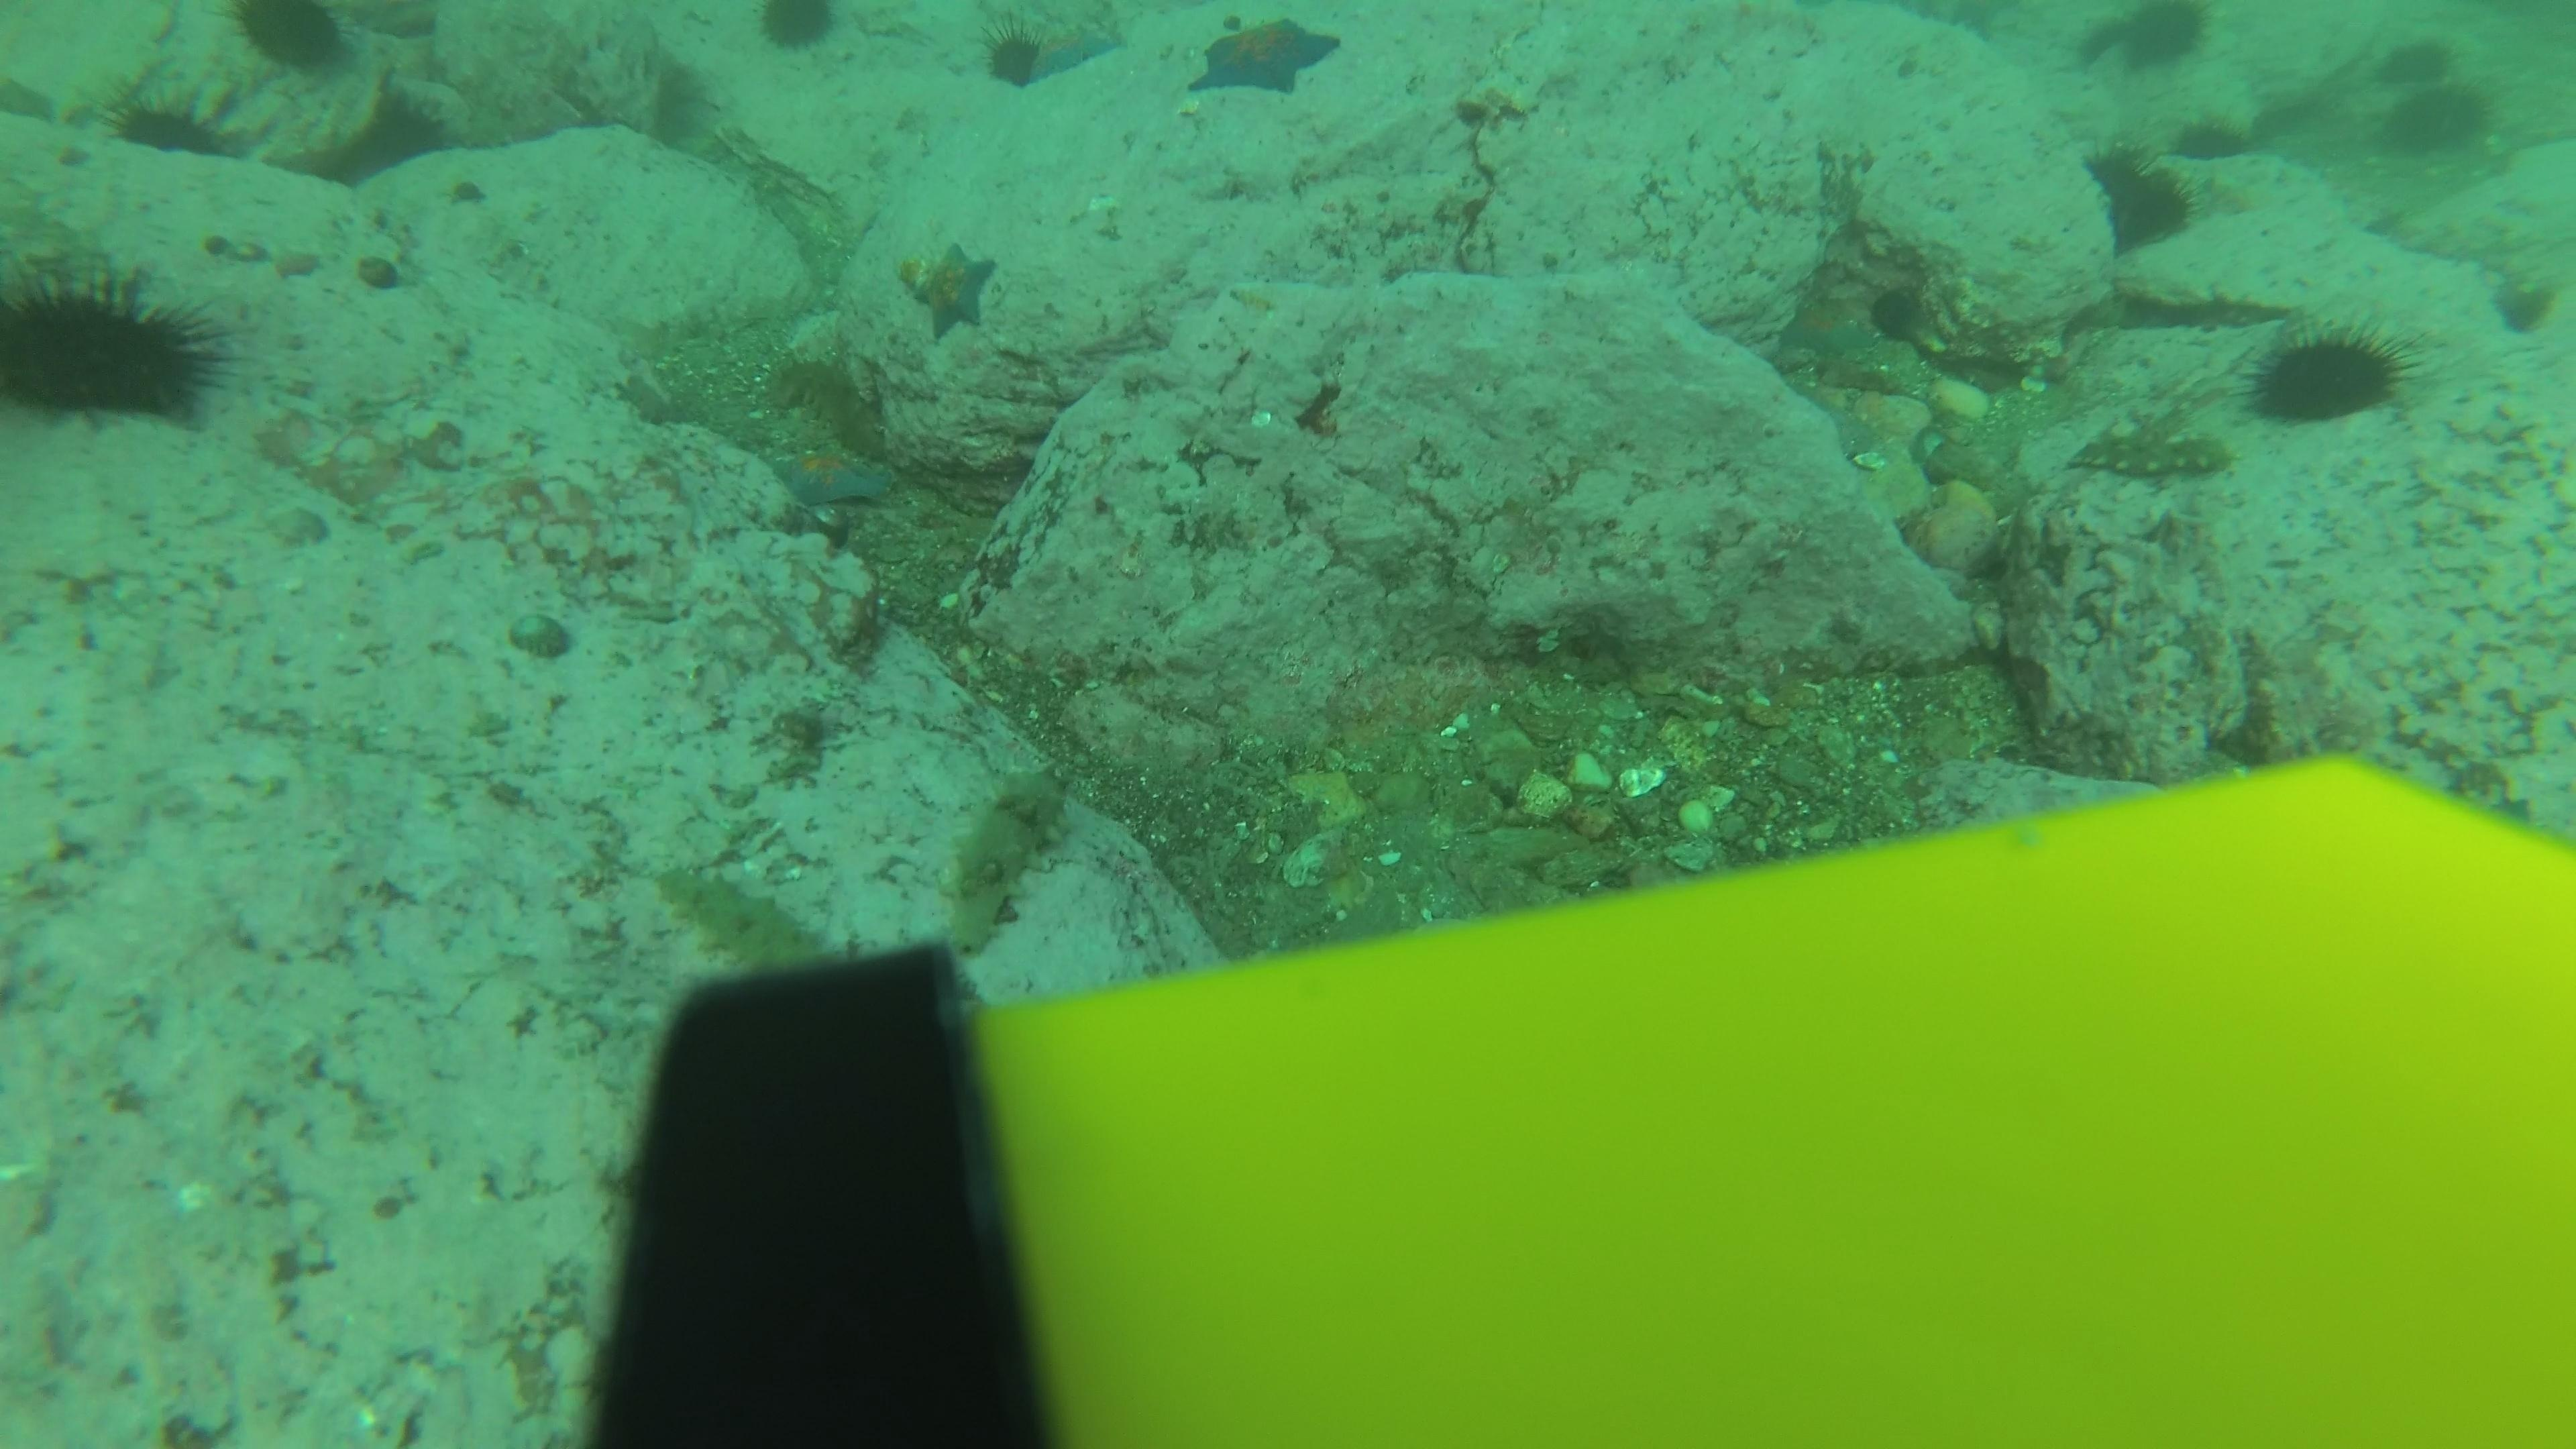echinus: (2, 258, 226, 430), (2243, 318, 2408, 430), (106, 85, 246, 165), (2378, 73, 2495, 161), (228, 0, 356, 78), (2091, 0, 2217, 76), (2068, 119, 2160, 205), (2105, 159, 2196, 246), (2178, 94, 2268, 180), (2369, 14, 2459, 101), (977, 21, 1053, 92), (754, 0, 842, 58), (2489, 272, 2557, 338)
holothurian: (932, 761, 1072, 966), (649, 858, 832, 975), (2068, 410, 2236, 487)
starfish: (1185, 12, 1346, 103), (899, 239, 1001, 340), (766, 437, 897, 513), (1775, 290, 1884, 364), (1021, 11, 1127, 83), (1451, 74, 1539, 131), (264, 237, 326, 283)
